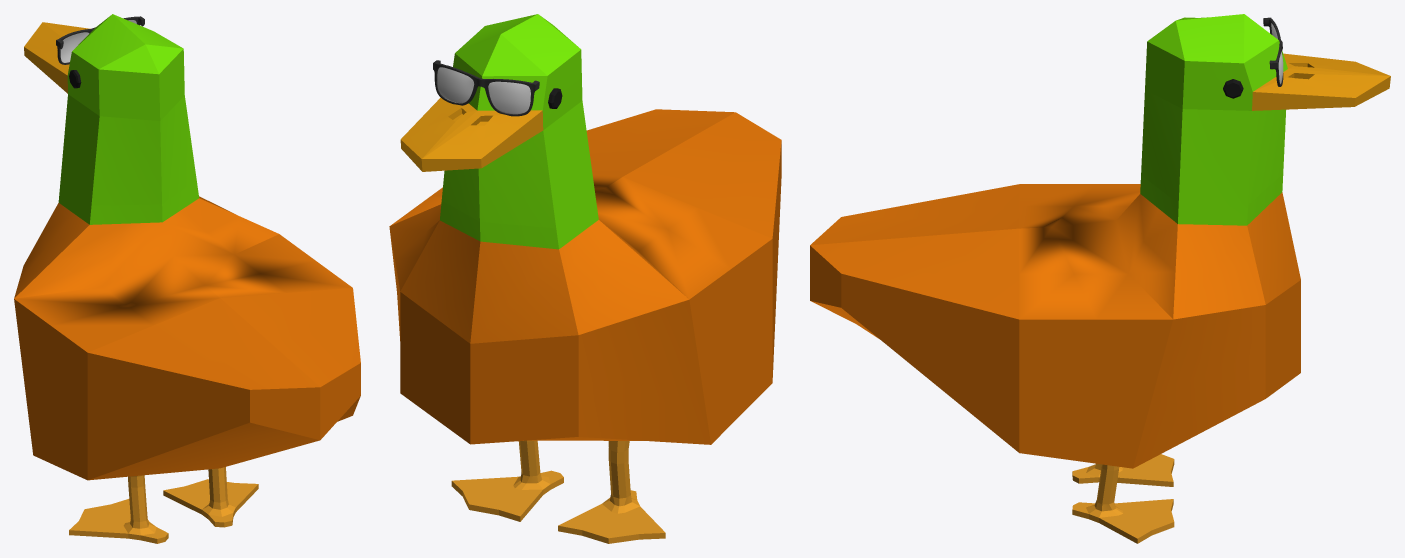
The model's file is pagarto.fbx.
3 views of the same model, side by side, from view 1: azimuth 30°, elevation 25°; view 2: azimuth 150°, elevation 25°; view 3: azimuth 270°, elevation 25° (orthographic). The views are drawn at different scales.
Visible parts, largest first — view 1: Duck_01, glasses.003; view 2: Duck_01, glasses.003, glasses.002, glasses.004; view 3: Duck_01.
Part boxes in pixels (bbox=[...]): Duck_01: bbox=[14, 14, 360, 543]; glasses.003: bbox=[60, 32, 89, 62]; Duck_01: bbox=[389, 14, 781, 543]; glasses.003: bbox=[488, 81, 530, 114]; glasses.002: bbox=[433, 60, 539, 116]; glasses.004: bbox=[437, 67, 474, 103]; Duck_01: bbox=[810, 14, 1390, 543].
Size of the model in its own units: 249 by 414 by 452.
